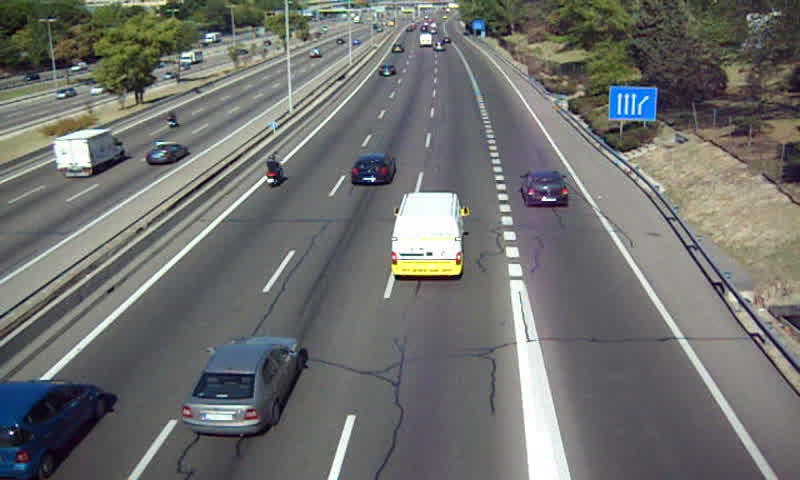car: (184, 340, 303, 436), (520, 171, 572, 207), (350, 155, 396, 186), (378, 63, 397, 78)
motorcycle: (265, 154, 285, 187)
van: (391, 193, 462, 278)
